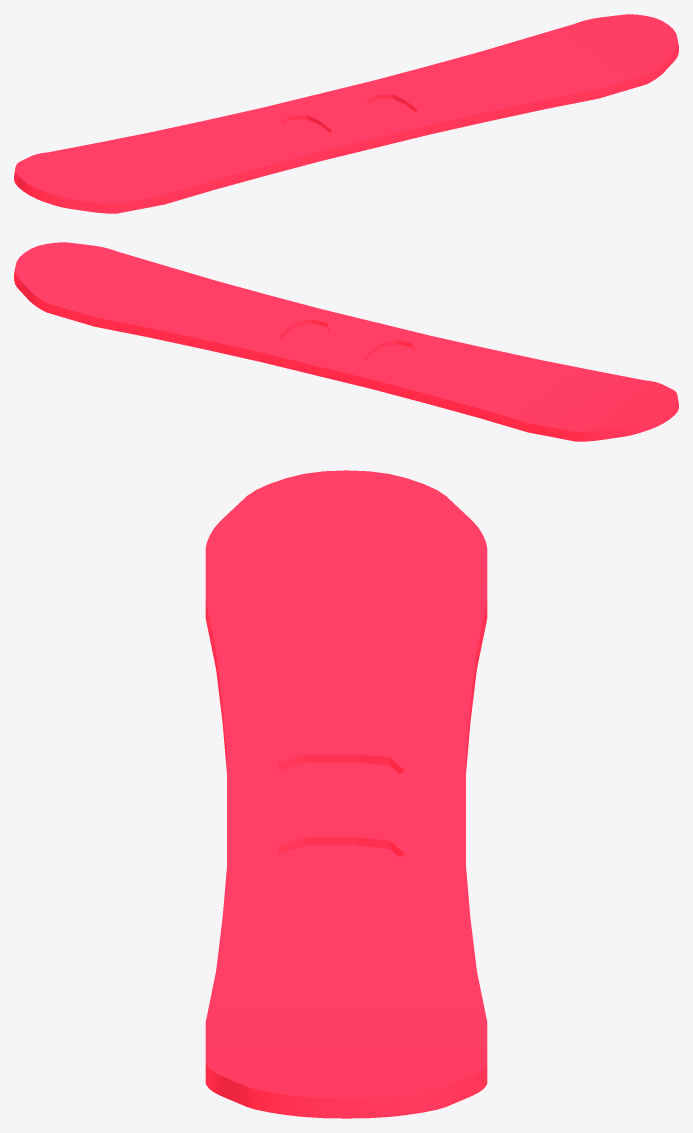
Rendered from snowboard 1.fbx.
The picture shows the model from 3 angles, top to bottom: view 1: azimuth 30°, elevation 25°; view 2: azimuth 150°, elevation 25°; view 3: azimuth 270°, elevation 25°; orthographic projection. The views are drawn at different scales.
Parts seen in each view (by area): view 1: snowboard; view 2: snowboard; view 3: snowboard.
Boxes of the visible parts, x1,y1,x2,y2 form: snowboard: [14, 14, 678, 213]; snowboard: [14, 242, 678, 441]; snowboard: [205, 470, 487, 1118].
Bounding box in the file's own units: 143 × 758 × 25.47.
